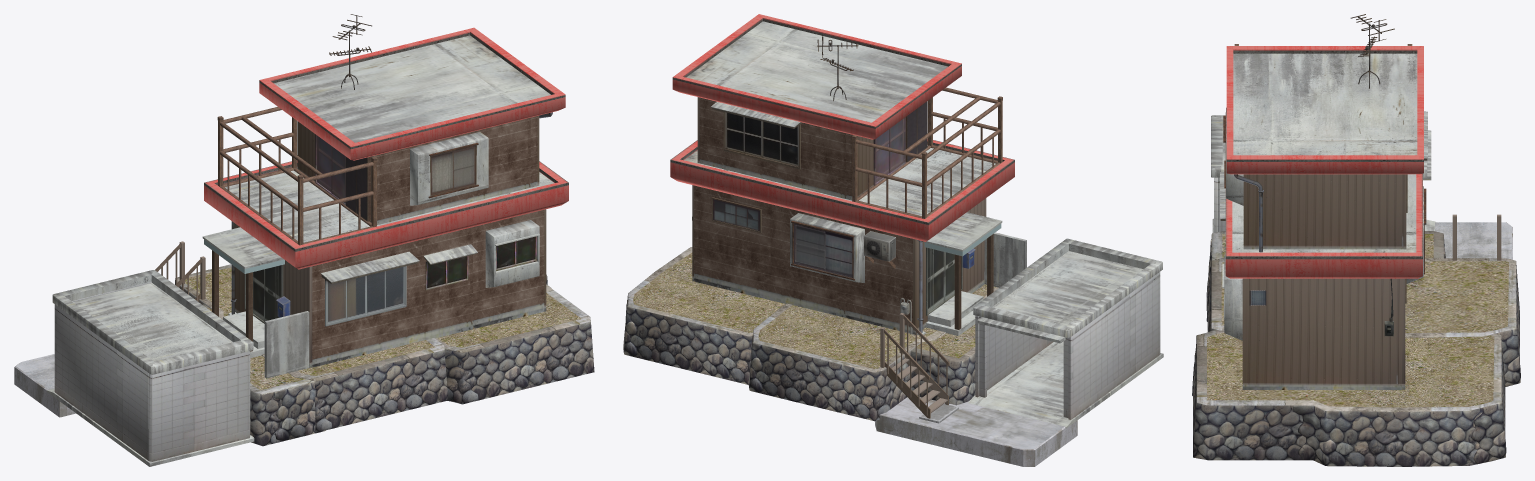
The model's file is houseset10.fbx.
3 views of the same model, side by side, from view 1: azimuth 30°, elevation 25°; view 2: azimuth 150°, elevation 25°; view 3: azimuth 270°, elevation 25° (orthographic). The views are drawn at different scales.
Visible parts, largest first — view 1: houseset10; view 2: houseset10; view 3: houseset10.
Part boxes in pixels (x1,y1,x2,y2): houseset10: [14, 14, 594, 466]; houseset10: [623, 14, 1163, 466]; houseset10: [1192, 14, 1520, 466].
Bounding box in the file's own units: 1261 × 733 × 912.
12 materials, 12 textured.
